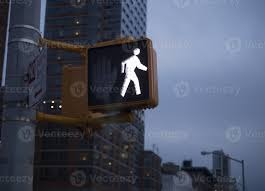pedestrian_walk: (116, 45, 149, 102)
